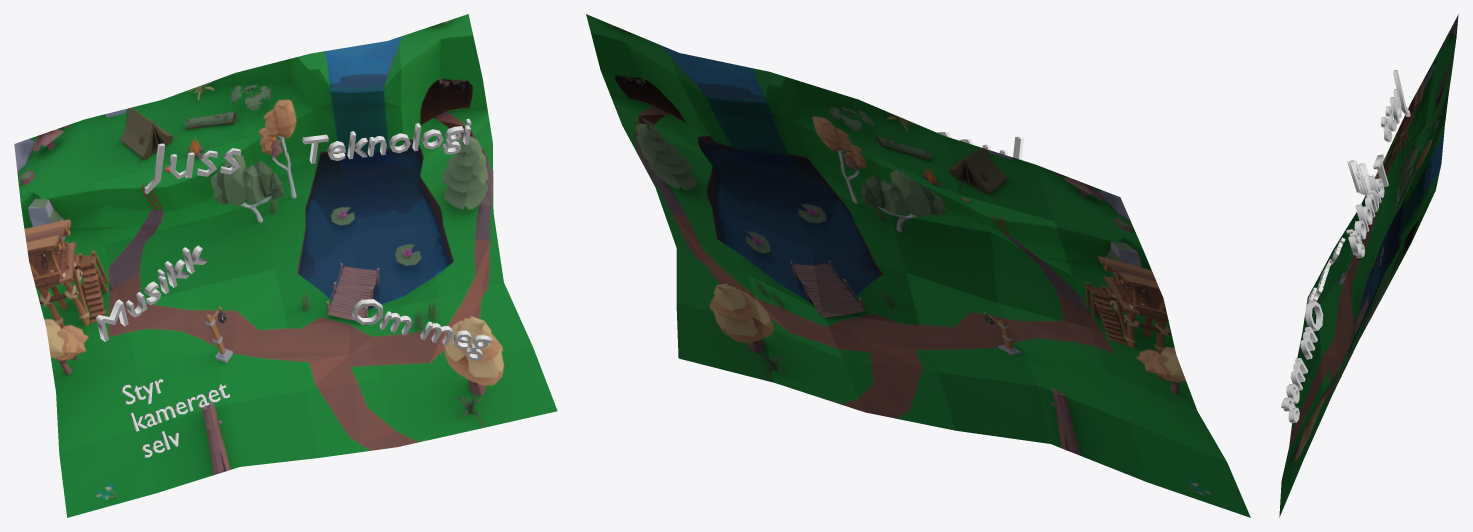
Rendered from minimap.glb.
3 renders of one model, left to right at view 1: azimuth 30°, elevation 25°; view 2: azimuth 150°, elevation 25°; view 3: azimuth 270°, elevation 25°, orthographic. The views are drawn at different scales.
Parts seen in each view (by area): view 1: Teknologi kart, Om meg kart, Styr kamera kart, Musikk kart, Juss kart, Teknologi, Musikk, Om meg, Styr kameraet selv, Juss; view 2: Teknologi kart, Om meg kart, Musikk kart, Styr kamera kart, Juss kart; view 3: Om meg kart, Teknologi kart, Juss kart, Styr kamera kart, Musikk kart, Om meg, Teknologi, Juss, Musikk, Styr kameraet selv.
Boxes of the visible parts, bbox=[...] form: Teknologi kart: bbox=[235, 14, 493, 268]; Om meg kart: bbox=[274, 212, 557, 457]; Styr kamera kart: bbox=[56, 330, 318, 517]; Musikk kart: bbox=[29, 203, 288, 392]; Juss kart: bbox=[14, 73, 261, 261]; Teknologi: bbox=[302, 119, 471, 163]; Musikk: bbox=[96, 245, 207, 341]; Om meg: bbox=[352, 299, 492, 360]; Styr kameraet selv: bbox=[121, 379, 229, 457]; Juss: bbox=[144, 143, 241, 193]; Teknologi kart: bbox=[586, 14, 906, 272]; Om meg kart: bbox=[655, 187, 955, 430]; Musikk kart: bbox=[891, 214, 1197, 410]; Styr kamera kart: bbox=[920, 326, 1250, 517]; Juss kart: bbox=[858, 100, 1163, 298]; Om meg kart: bbox=[1279, 254, 1374, 517]; Teknologi kart: bbox=[1358, 94, 1448, 340]; Juss kart: bbox=[1393, 14, 1458, 199]; Styr kamera kart: bbox=[1294, 212, 1357, 405]; Musikk kart: bbox=[1346, 103, 1410, 304]; Om meg: bbox=[1281, 300, 1323, 422]; Teknologi: bbox=[1346, 154, 1388, 258]; Juss: bbox=[1380, 70, 1410, 142]; Musikk: bbox=[1347, 160, 1370, 195]; Styr kameraet selv: bbox=[1306, 237, 1345, 305].
Size of the model in its own units: 0.4298 by 0.2943 by 0.1467.
1 material, 1 textured.
